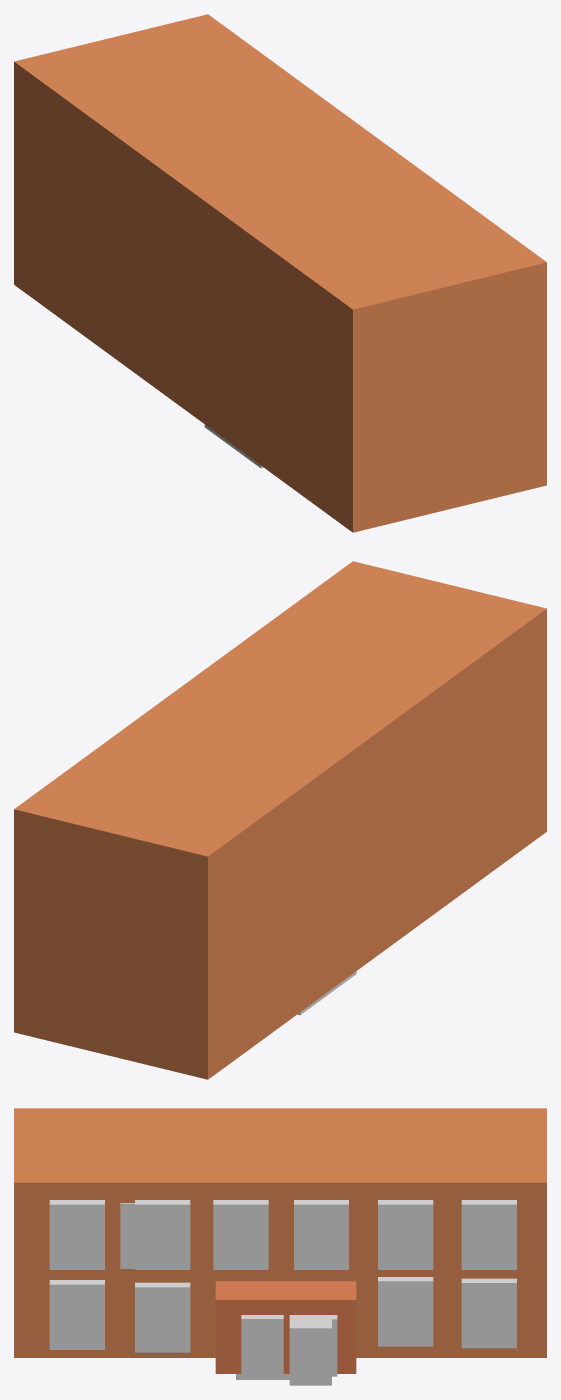
Rendered from UVABuilding.fbx.
3 renders of one model, top to bottom at view 1: azimuth 30°, elevation 25°; view 2: azimuth 150°, elevation 25°; view 3: azimuth 270°, elevation 25°, orthographic. The views are drawn at different scales.
Parts seen in each view (by area): view 1: Cube.001; view 2: Cube.001; view 3: Cube.001, Cube.014, Cube.011, Cube.013, Cube.002, Cube.005, Cube.006, Cube.008, Cube.009, Cube.010, Cube.012, Cube.007 (+4 smaller).
Boxes of the visible parts, x1=… form: Cube.001: x1=14, y1=14, x2=546, y2=532; Cube.001: x1=14, y1=561, x2=546, y2=1079; Cube.001: x1=14, y1=1108, x2=546, y2=1357; Cube.014: x1=215, y1=1281, x2=356, y2=1373; Cube.011: x1=135, y1=1282, x2=190, y2=1352; Cube.013: x1=461, y1=1278, x2=516, y2=1348; Cube.002: x1=49, y1=1200, x2=104, y2=1269; Cube.005: x1=135, y1=1200, x2=190, y2=1269; Cube.006: x1=213, y1=1200, x2=268, y2=1269; Cube.008: x1=378, y1=1200, x2=433, y2=1269; Cube.009: x1=461, y1=1200, x2=516, y2=1269; Cube.010: x1=49, y1=1280, x2=104, y2=1349; Cube.012: x1=378, y1=1277, x2=433, y2=1346; Cube.007: x1=294, y1=1200, x2=348, y2=1269.
Bounding box in the file's own units: 569 × 537 × 1204.
